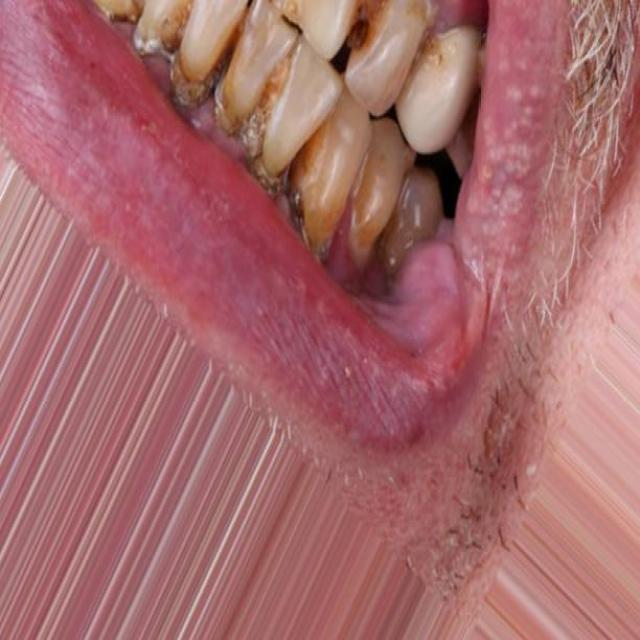caries: (347, 0, 389, 63)
